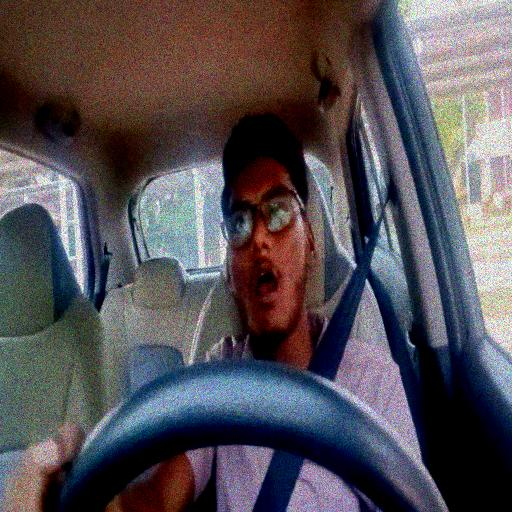yawns: (218, 116, 319, 351)
